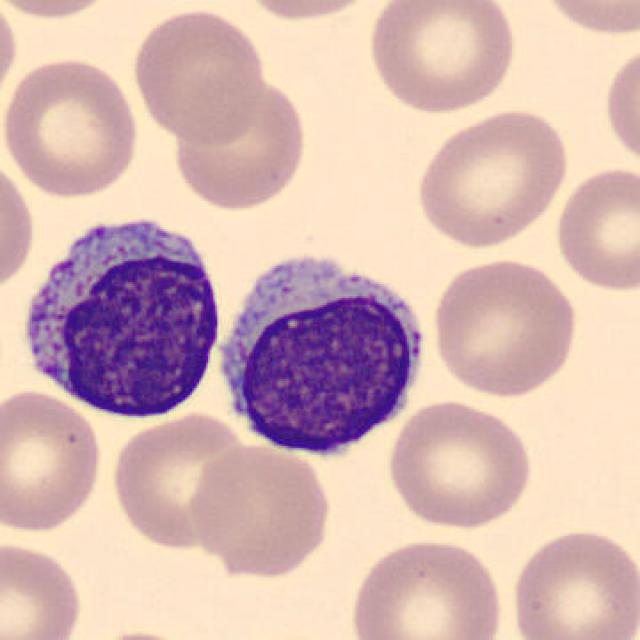Lymphocyte: (208, 244, 436, 466), (11, 201, 229, 425)
RBC: (410, 106, 572, 250), (428, 254, 582, 398), (107, 409, 254, 554), (0, 53, 142, 201), (185, 441, 336, 580), (384, 396, 537, 530), (171, 72, 311, 212), (128, 5, 268, 145), (364, 0, 519, 116), (345, 534, 508, 640), (0, 386, 105, 534), (506, 523, 638, 640), (551, 162, 638, 294), (0, 537, 87, 640), (0, 155, 37, 296), (601, 39, 638, 174), (532, 0, 638, 39), (235, 0, 391, 25), (0, 0, 124, 23), (0, 0, 21, 111)
